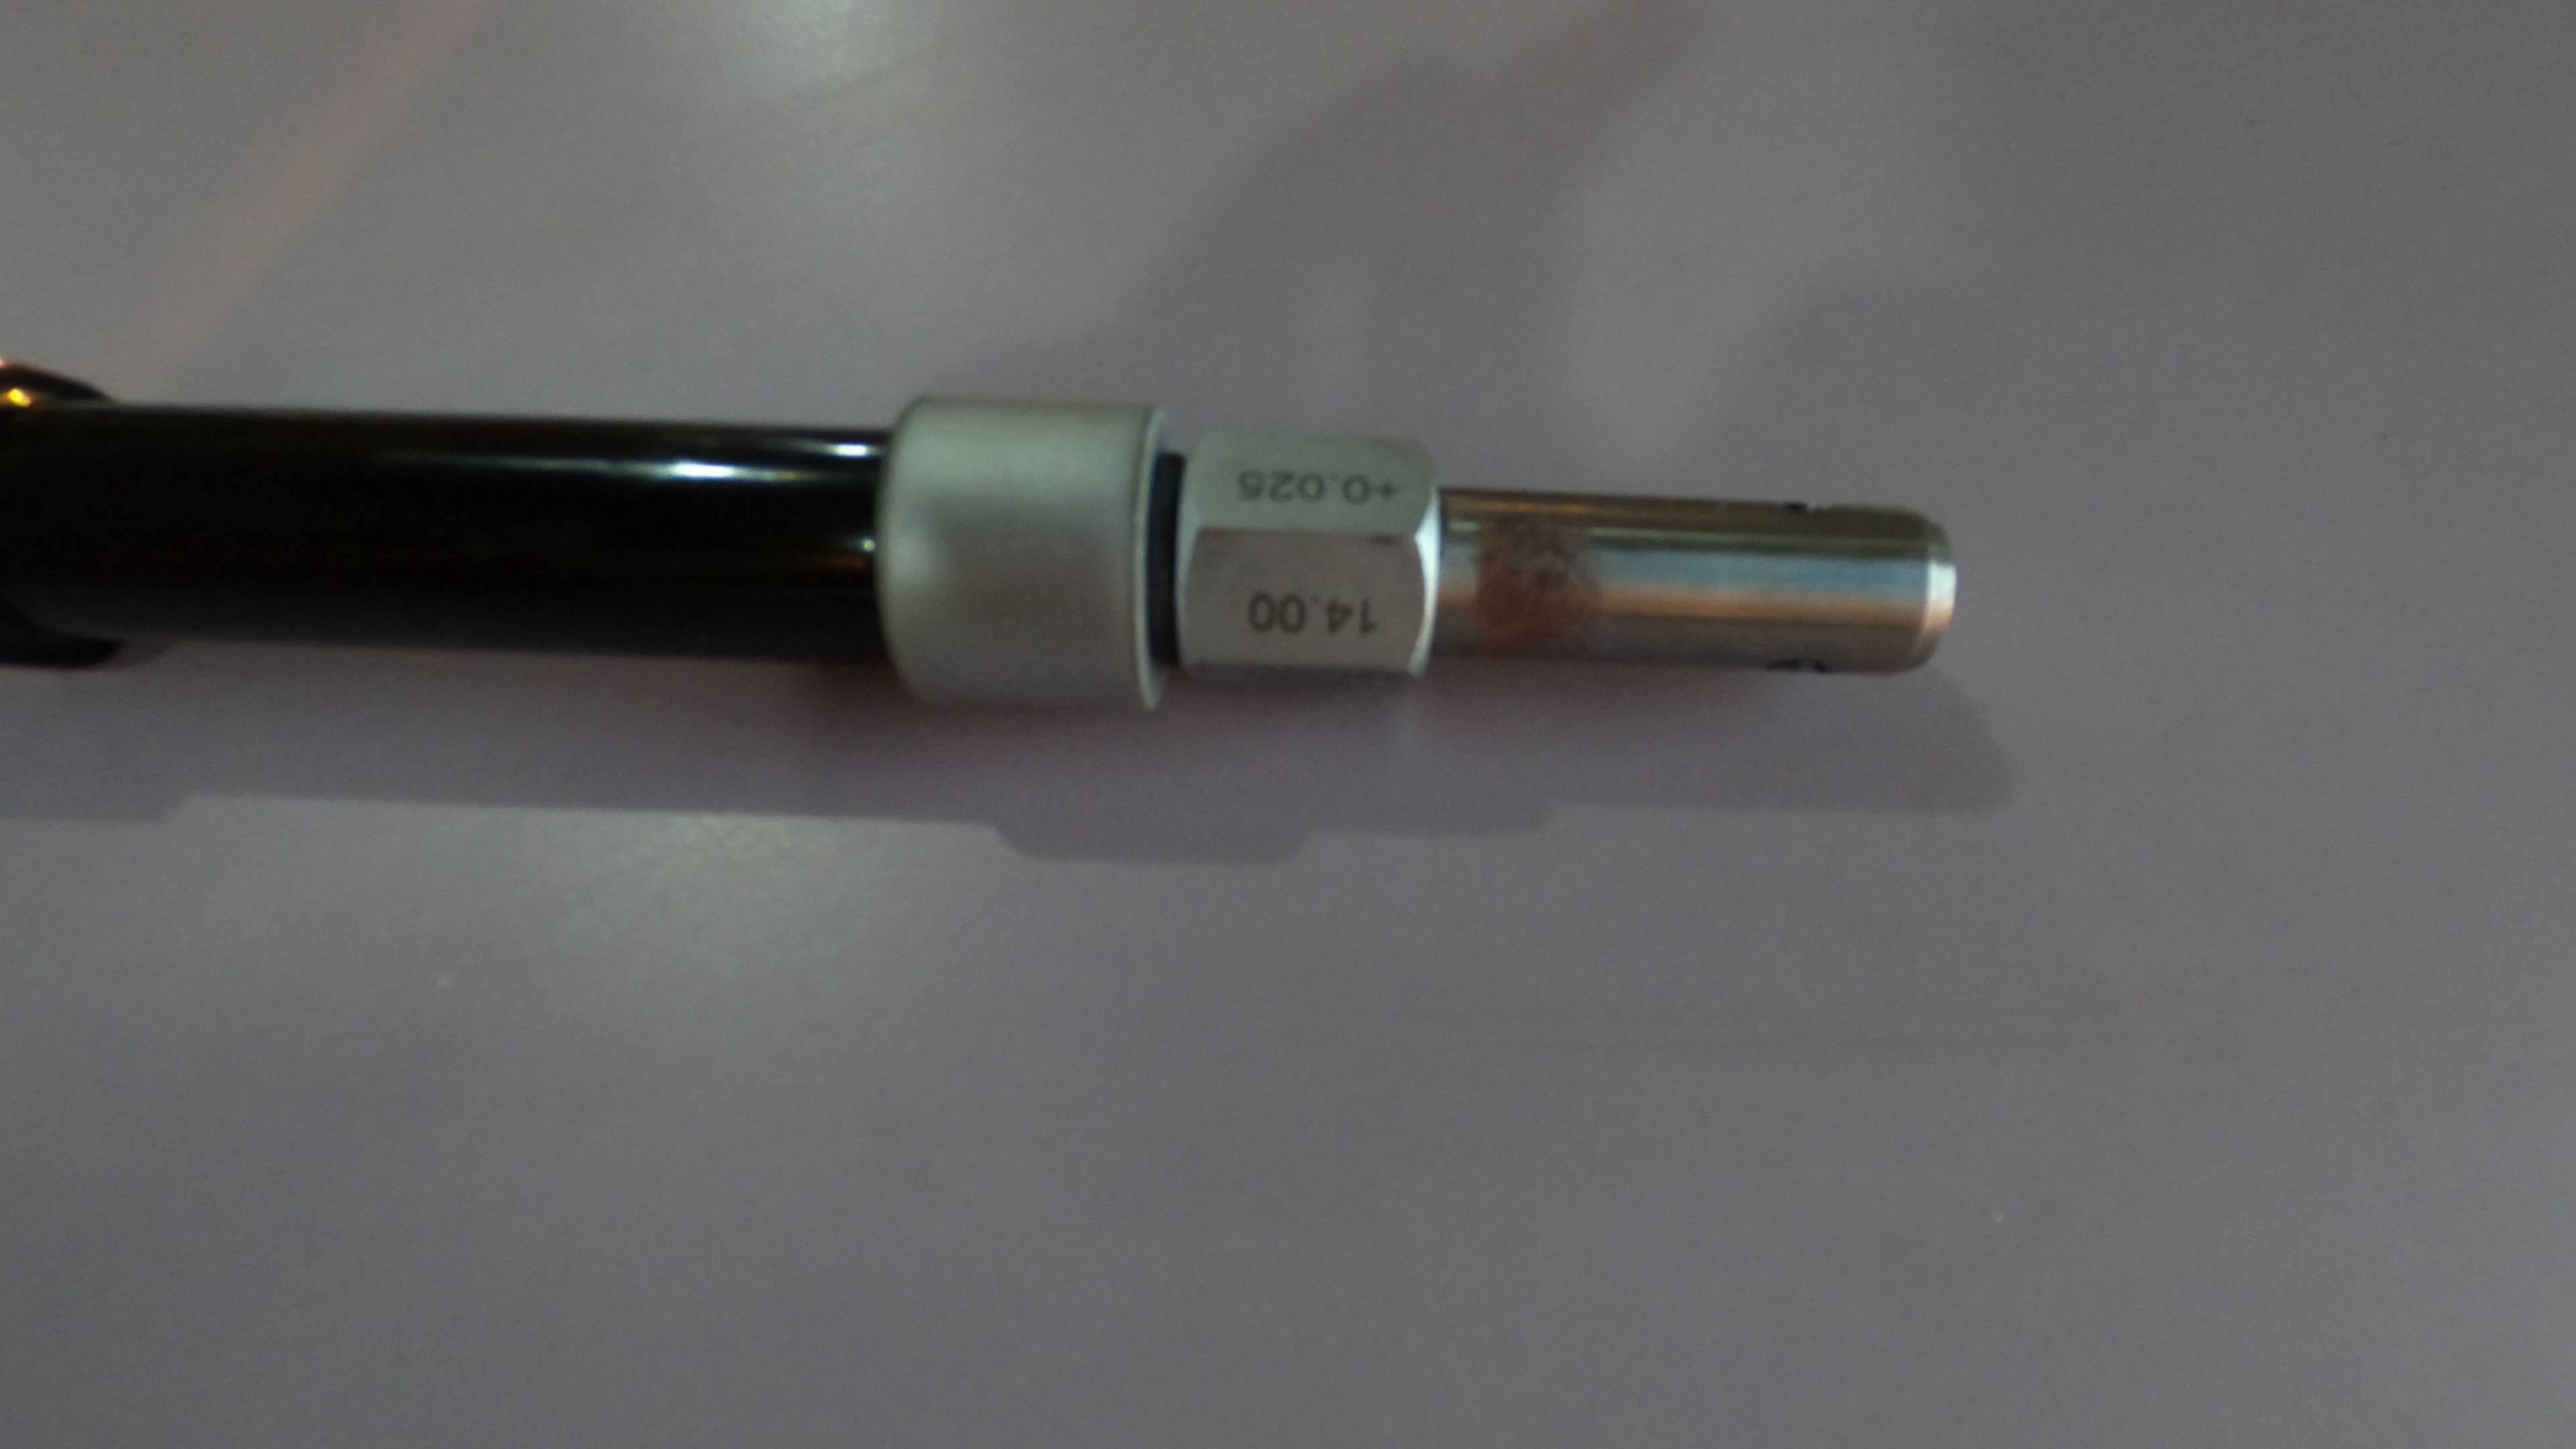air_gauge: (4, 356, 1957, 741)
